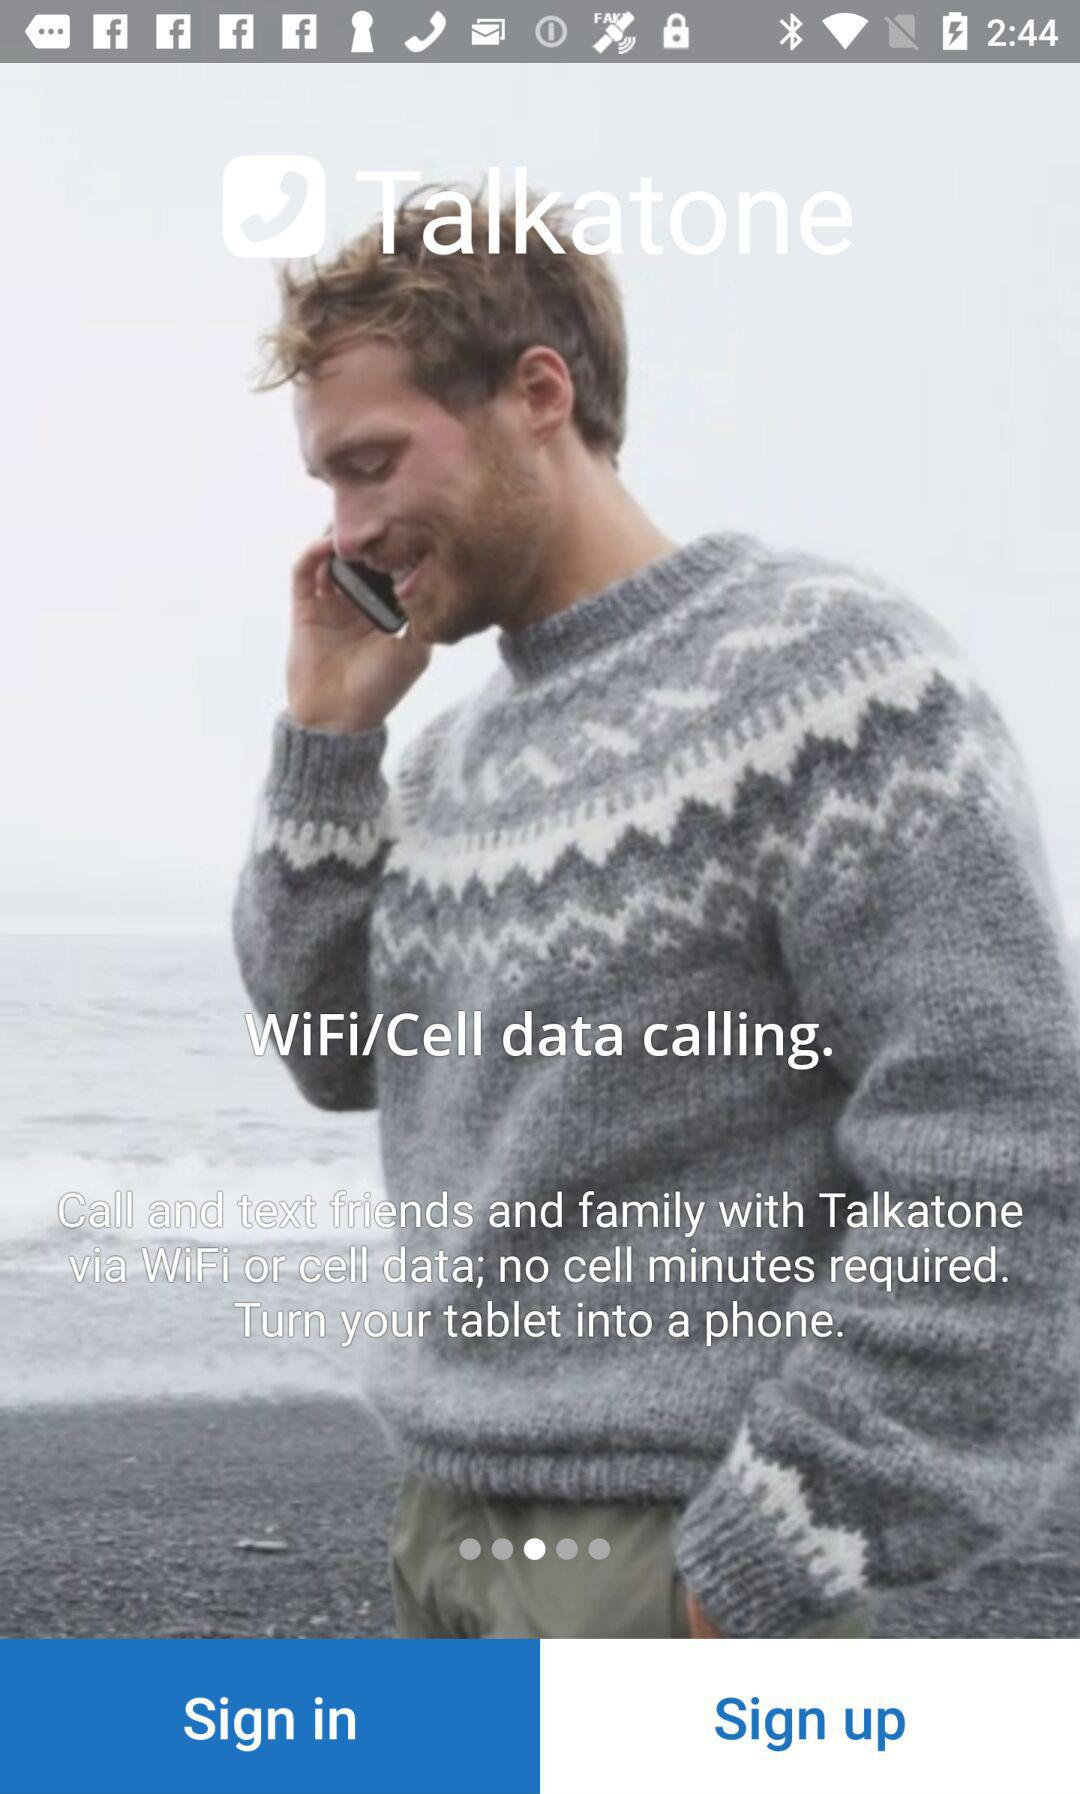BackgroundImage: (1, 64, 1080, 1638)
Image: (222, 155, 328, 261)
PageIndicator: (457, 1536, 612, 1562)
Text: (56, 1188, 1024, 1348), (354, 167, 855, 256), (241, 1012, 831, 1070)
TextButton: (1, 1639, 541, 1794), (541, 1639, 1080, 1794)
UpperTaskBar: (1, 1, 1080, 64)
